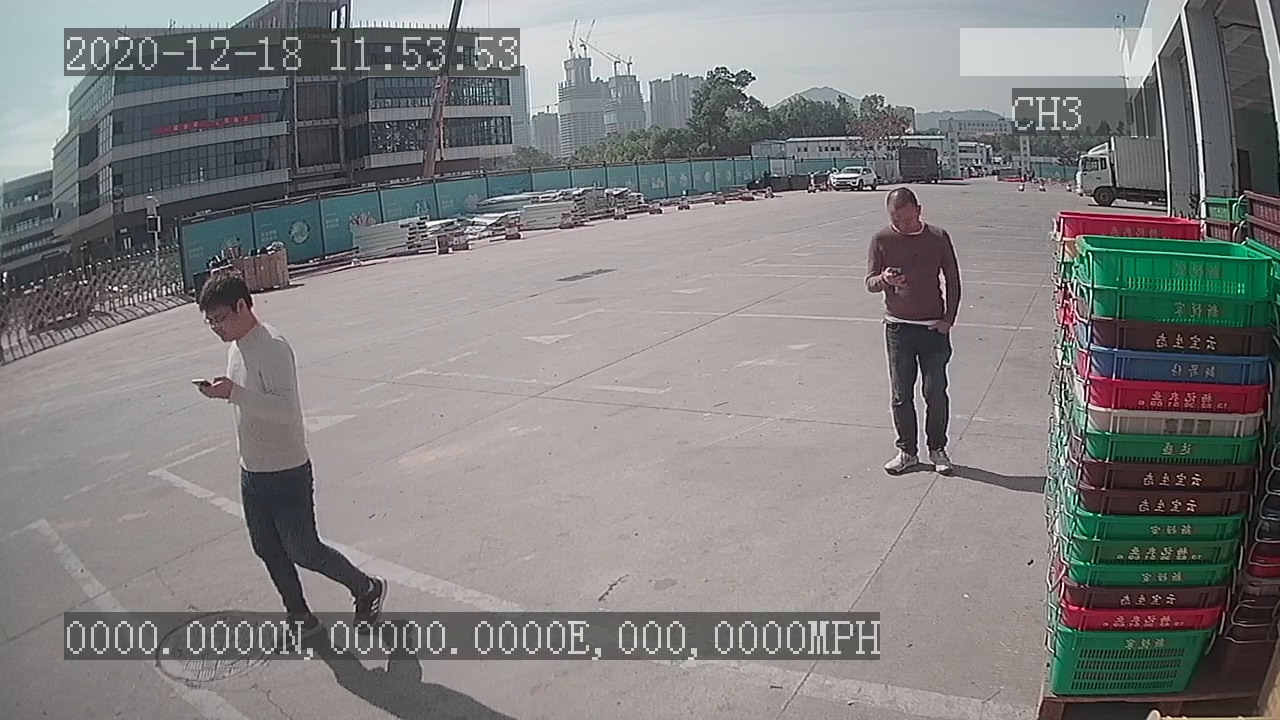person: (851, 185, 970, 481)
